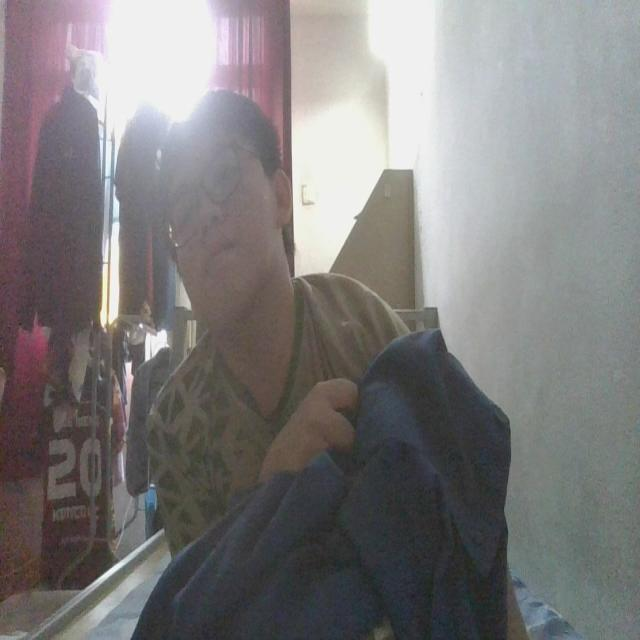person_without_labcoat: (132, 91, 527, 639)
